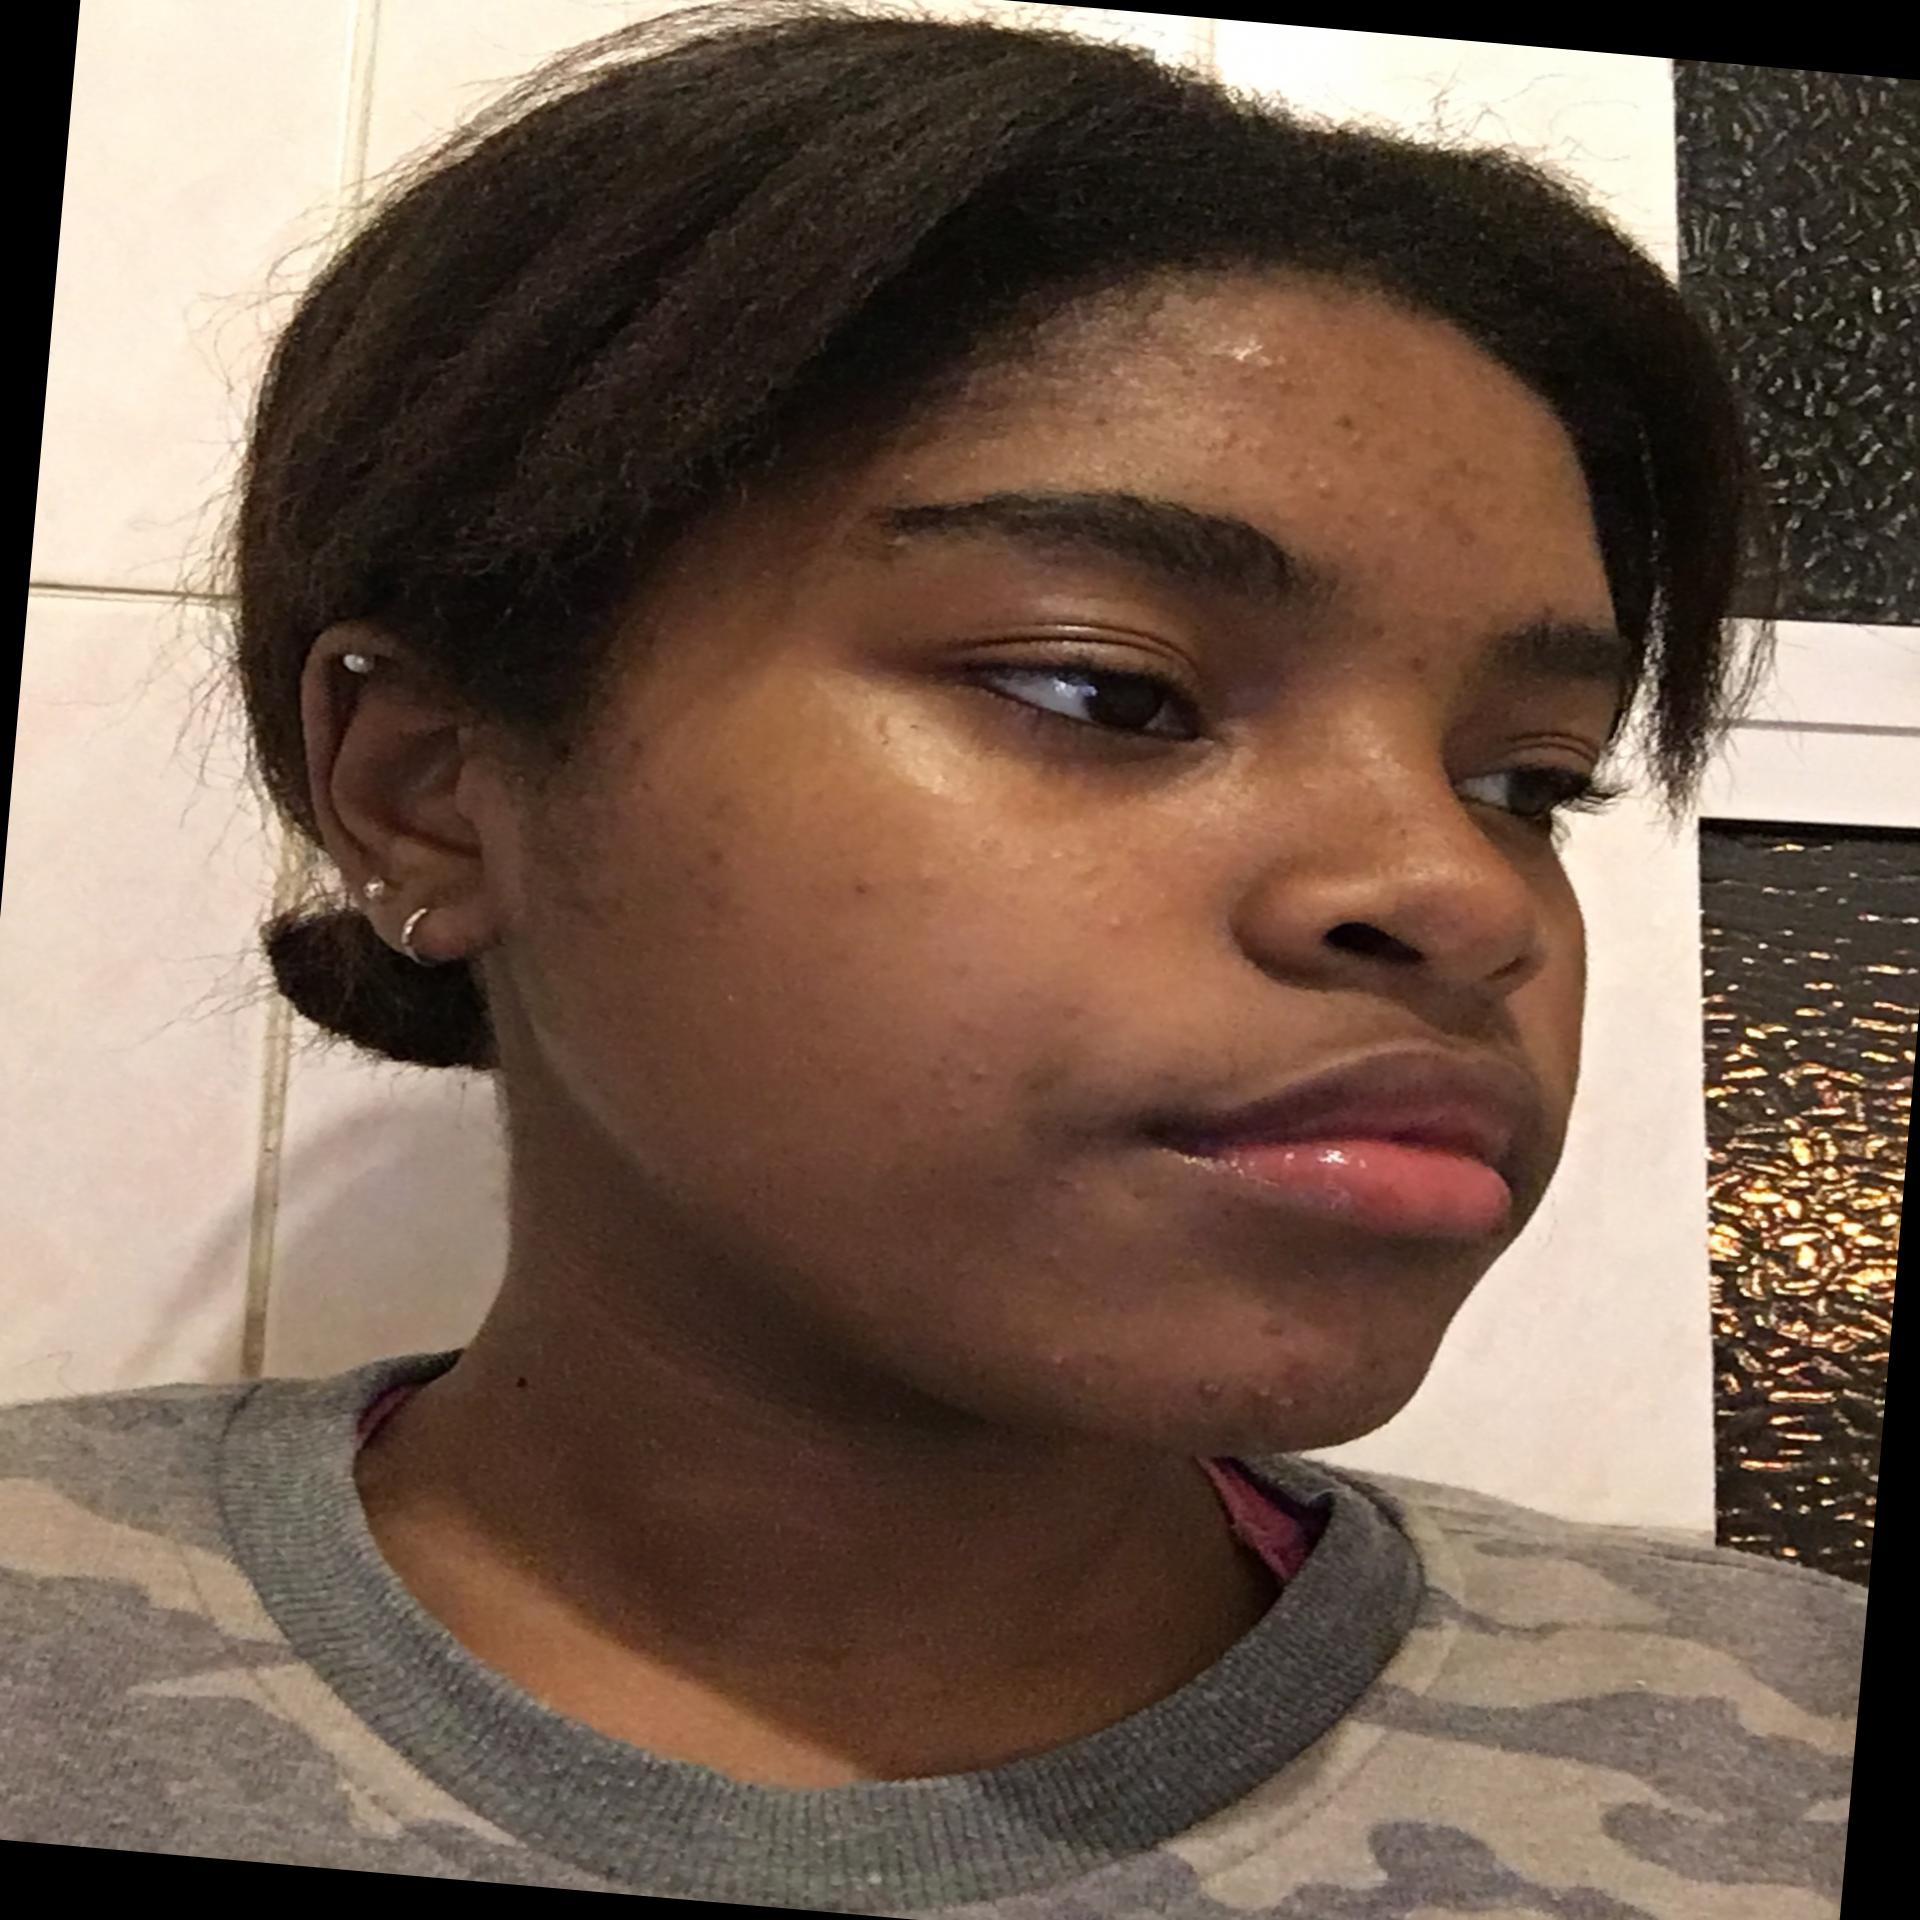Acne: (1194, 418, 1273, 469), (1273, 448, 1350, 498), (673, 844, 730, 909), (1327, 410, 1380, 452), (1431, 515, 1480, 559), (1377, 505, 1440, 538), (1422, 452, 1470, 496), (1243, 1385, 1303, 1417), (1254, 366, 1299, 403), (1076, 411, 1129, 441), (1034, 1342, 1078, 1373), (1255, 1310, 1289, 1347), (1085, 874, 1125, 904), (1189, 1375, 1231, 1403), (1394, 649, 1433, 679), (842, 870, 877, 902), (1385, 812, 1421, 844), (1053, 1173, 1097, 1197), (964, 833, 1000, 862), (935, 1092, 978, 1116), (1354, 387, 1393, 411), (1097, 913, 1139, 934), (1433, 608, 1472, 631), (1169, 355, 1197, 383), (1041, 1236, 1065, 1268), (1046, 846, 1078, 867), (965, 1065, 990, 1087), (719, 990, 744, 1007)
